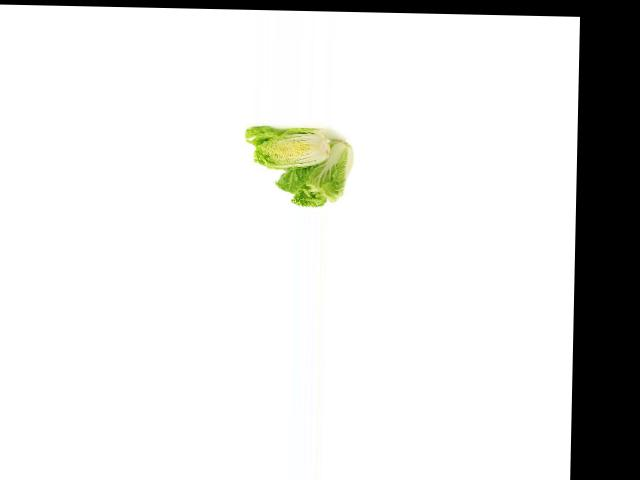lettuce: (270, 133, 355, 211)
